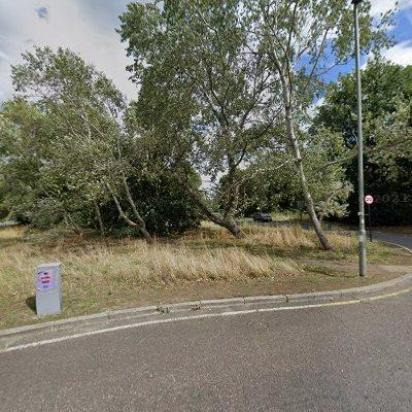stationary-car-onstreet: (250, 209, 272, 223)
